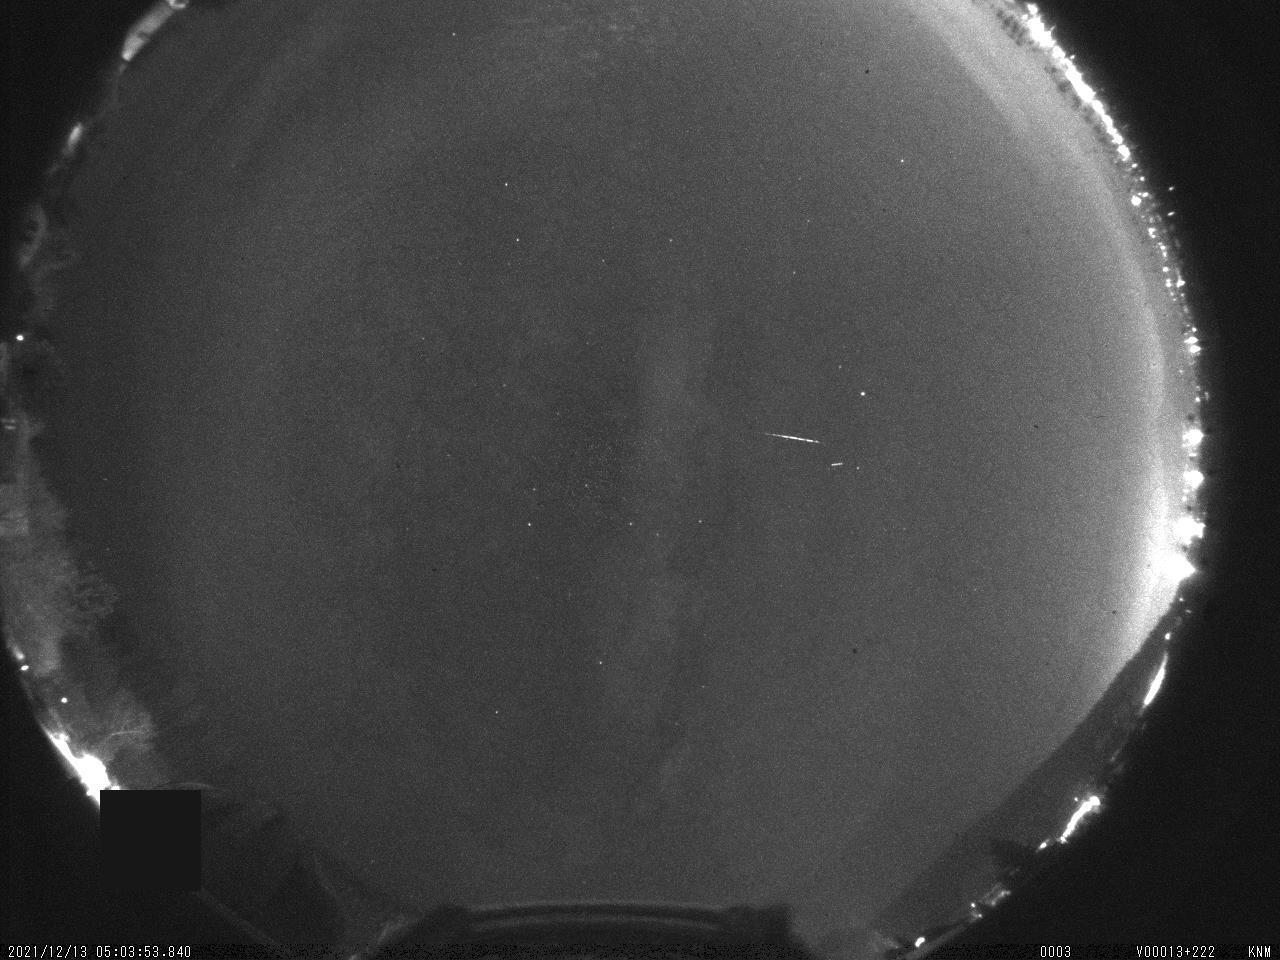Meteor: (761, 429, 823, 446)
